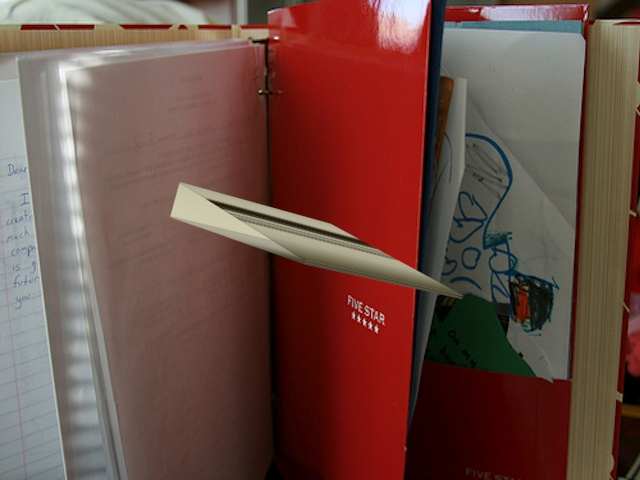ring_binder: (161, 176, 465, 304)
